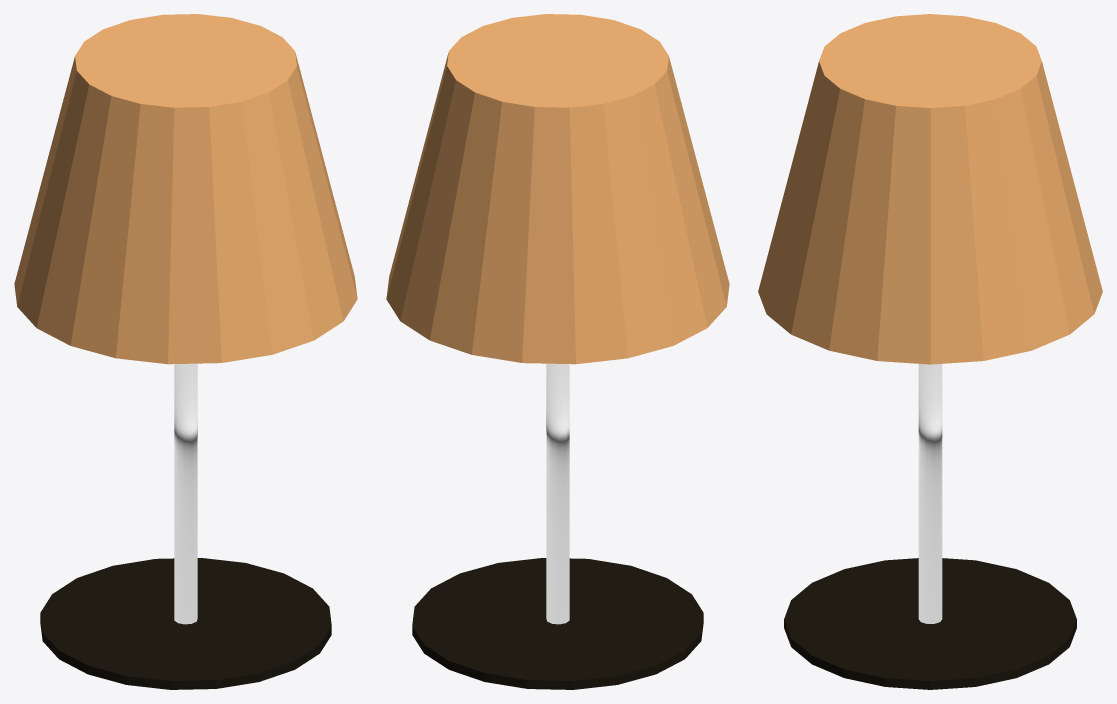
File: Lamp.fbx
3 renders of one model, left to right at view 1: azimuth 30°, elevation 25°; view 2: azimuth 150°, elevation 25°; view 3: azimuth 270°, elevation 25°, orthographic.
Visible parts, largest first — view 1: Lamp; view 2: Lamp; view 3: Lamp.
Part boxes in pixels (<box>): Lamp: <box>14,14,357,689</box>; Lamp: <box>386,14,729,689</box>; Lamp: <box>758,14,1102,689</box>.
Bounding box in the file's own units: 54.78 × 99.38 × 54.78.
